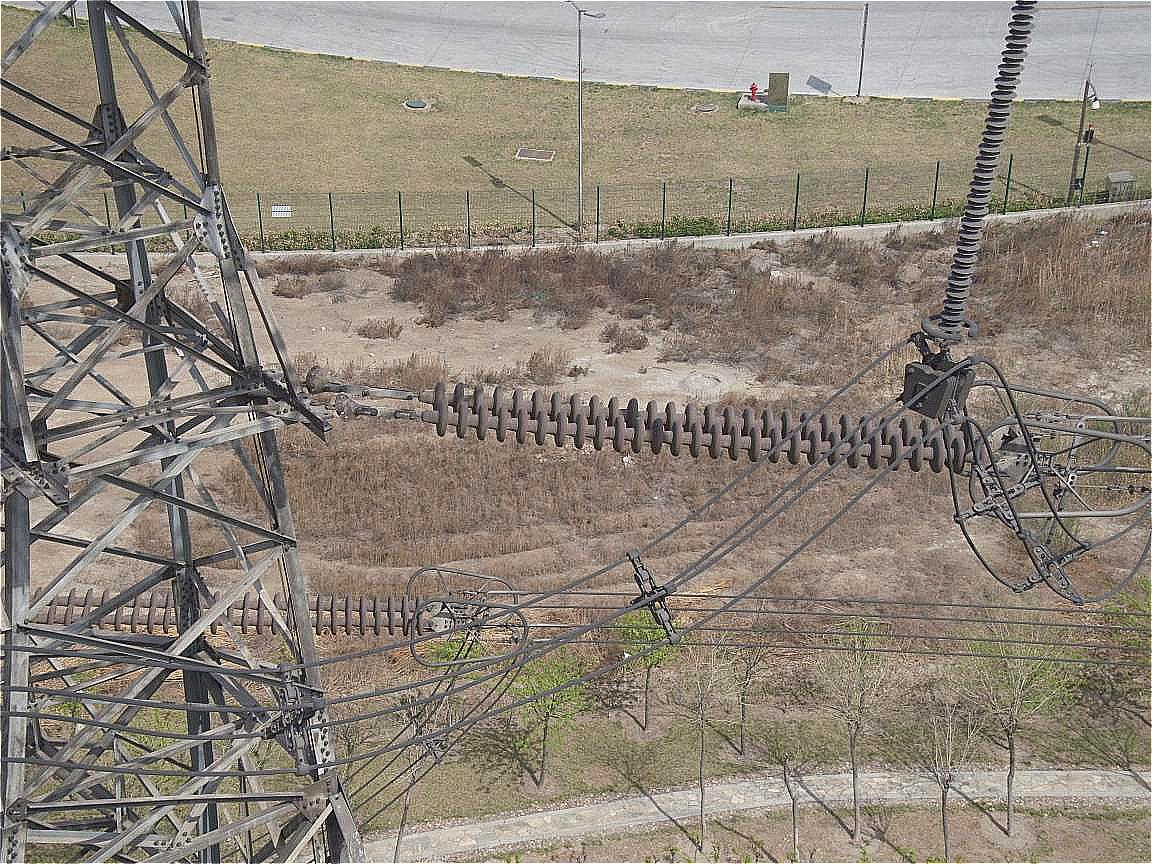insultor1: (386, 365, 977, 481), (27, 578, 457, 642)
